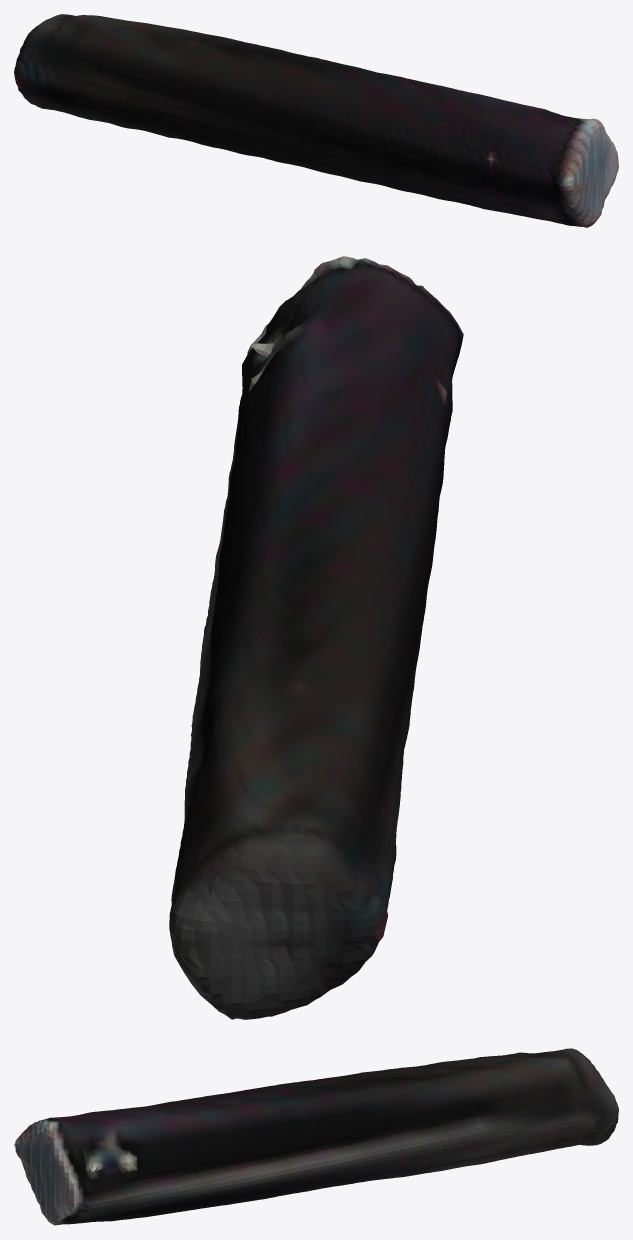
The picture shows the model from 3 angles, top to bottom: view 1: azimuth 30°, elevation 25°; view 2: azimuth 150°, elevation 25°; view 3: azimuth 270°, elevation 25°; orthographic projection. The views are drawn at different scales.
Bounding box in the file's own units: 0.5036 × 0.1981 × 0.845.
